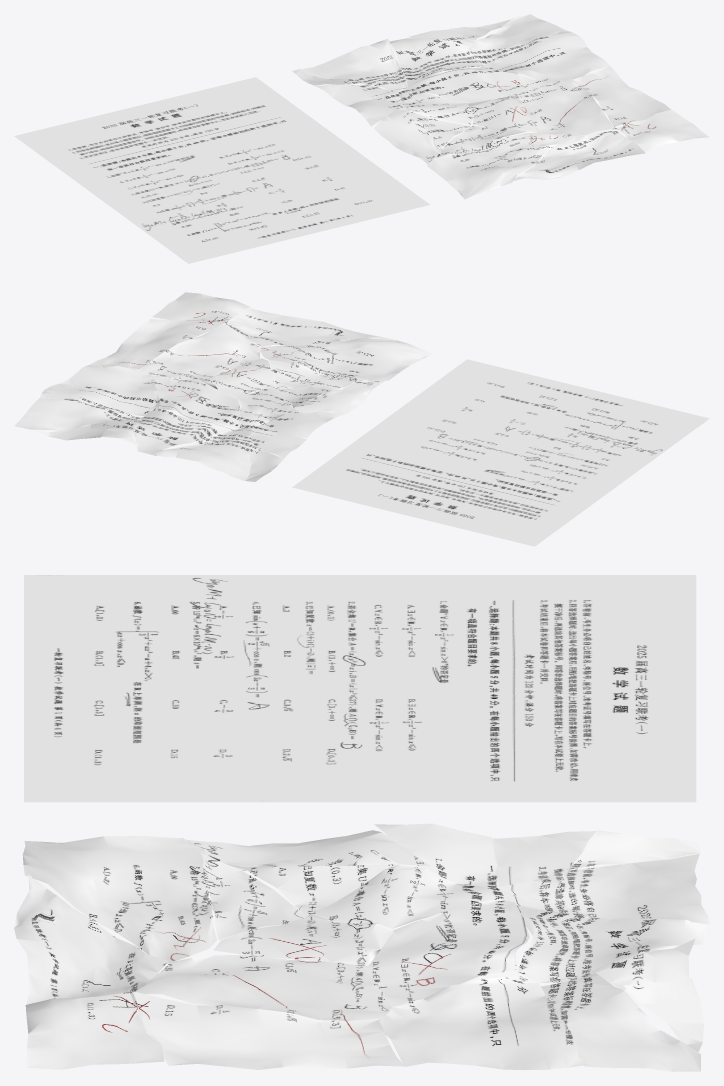
The model's file is shijuan.obj.
3 renders of one model, top to bottom at view 1: azimuth 30°, elevation 25°; view 2: azimuth 150°, elevation 25°; view 3: azimuth 270°, elevation 25°, orthographic. The views are drawn at different scales.
Parts seen in each view (by area): view 1: ??, ??_fracturepart4, ??_fracturepart20, ??_fracturepart9, ??_fracturepart16, ??_fracturepart11, ??_fracturepart2, ??_fracturepart18, ??_fracturepart10, ??_fracturepart5, ??_fracturepart17, ??_fracturepart12 (+9 smaller); view 2: ??, ??_fracturepart4, ??_fracturepart20, ??_fracturepart9, ??_fracturepart11, ??_fracturepart18, ??_fracturepart16, ??_fracturepart2, ??_fracturepart10, ??_fracturepart5, ??_fracturepart17, ??_fracturepart13 (+9 smaller); view 3: ??, ??_fracturepart4, ??_fracturepart20, ??_fracturepart18, ??_fracturepart9, ??_fracturepart16, ??_fracturepart11, ??_fracturepart2, ??_fracturepart10, ??_fracturepart5, ??_fracturepart17, ??_fracturepart14 (+9 smaller).
Part boxes in pixels (x1,y1,x2,y2): ??: [14, 77, 429, 263]; ??_fracturepart4: [427, 132, 559, 199]; ??_fracturepart20: [481, 29, 609, 82]; ??_fracturepart9: [518, 78, 614, 137]; ??_fracturepart16: [406, 67, 550, 103]; ??_fracturepart11: [511, 131, 645, 181]; ??_fracturepart2: [302, 39, 407, 92]; ??_fracturepart18: [573, 66, 670, 129]; ??_fracturepart10: [389, 37, 483, 86]; ??_fracturepart5: [468, 14, 563, 64]; ??_fracturepart17: [615, 109, 709, 151]; ??_fracturepart12: [374, 104, 441, 165]; ??: [292, 359, 709, 546]; ??_fracturepart4: [260, 337, 432, 380]; ??_fracturepart20: [40, 365, 159, 415]; ??_fracturepart9: [140, 323, 260, 380]; ??_fracturepart11: [227, 308, 383, 346]; ??_fracturepart18: [89, 319, 226, 368]; ??_fracturepart16: [154, 377, 241, 428]; ??_fracturepart2: [152, 427, 252, 480]; ??_fracturepart10: [130, 408, 233, 455]; ??_fracturepart5: [14, 398, 142, 430]; ??_fracturepart17: [152, 292, 249, 322]; ??_fracturepart13: [201, 358, 275, 398]; ??: [24, 575, 696, 802]; ??_fracturepart4: [22, 836, 216, 963]; ??_fracturepart20: [378, 976, 587, 1070]; ??_fracturepart18: [130, 991, 404, 1069]; ??_fracturepart9: [135, 954, 391, 1020]; ??_fracturepart16: [366, 900, 529, 1006]; ??_fracturepart11: [14, 874, 168, 1004]; ??_fracturepart2: [497, 853, 709, 924]; ??_fracturepart10: [516, 905, 705, 982]; ??_fracturepart5: [541, 975, 700, 1071]; ??_fracturepart17: [25, 992, 164, 1069]; ??_fracturepart14: [309, 865, 505, 928].
Size of the model in its own units: 871 by 21.85 by 518.
Materials: 2 (2 with a texture image).
